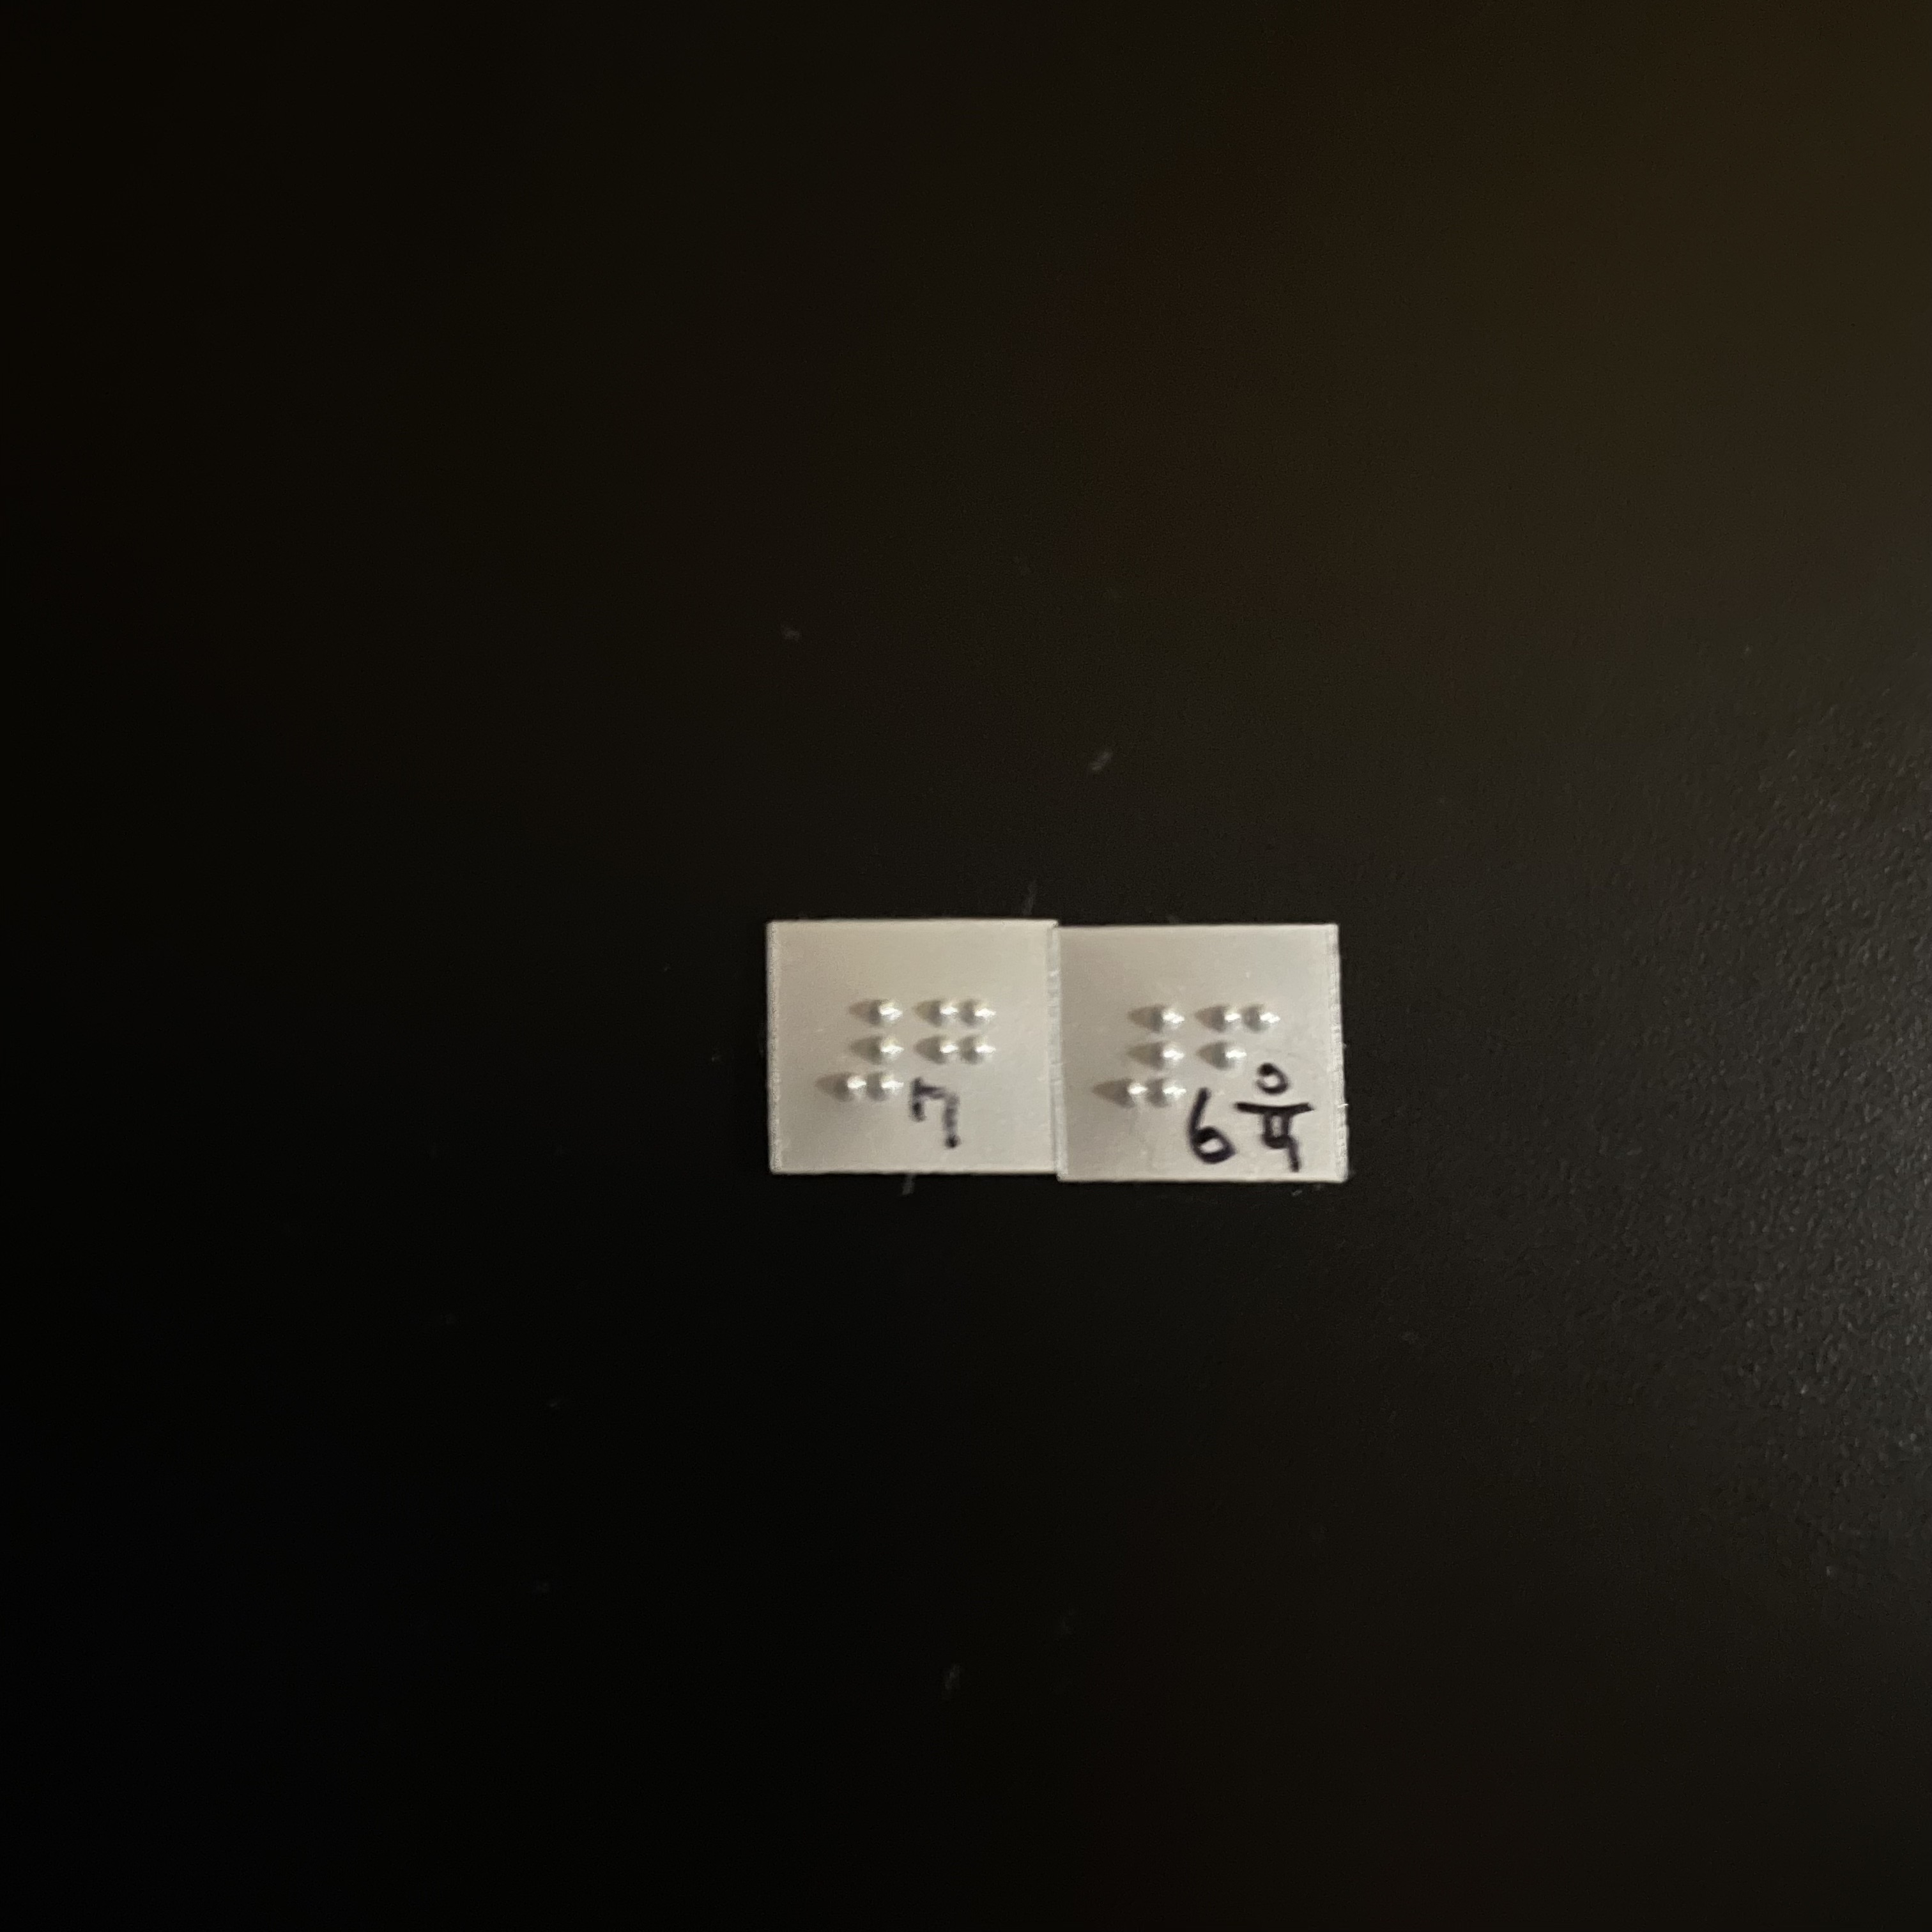#: (1111, 1002, 1190, 1115), (833, 993, 903, 1108)
6: (1199, 1000, 1280, 1117)
7: (906, 993, 996, 1112)
